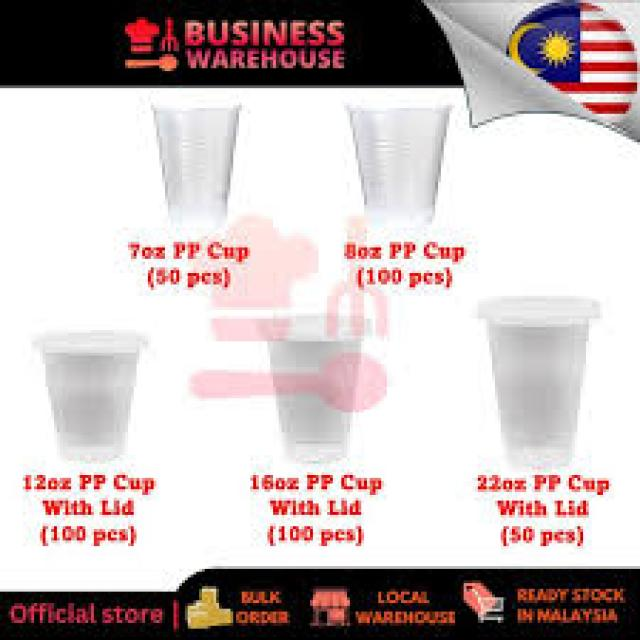cup: (475, 280, 602, 478), (334, 90, 461, 238), (263, 306, 376, 469), (40, 317, 153, 472), (147, 93, 246, 233)
